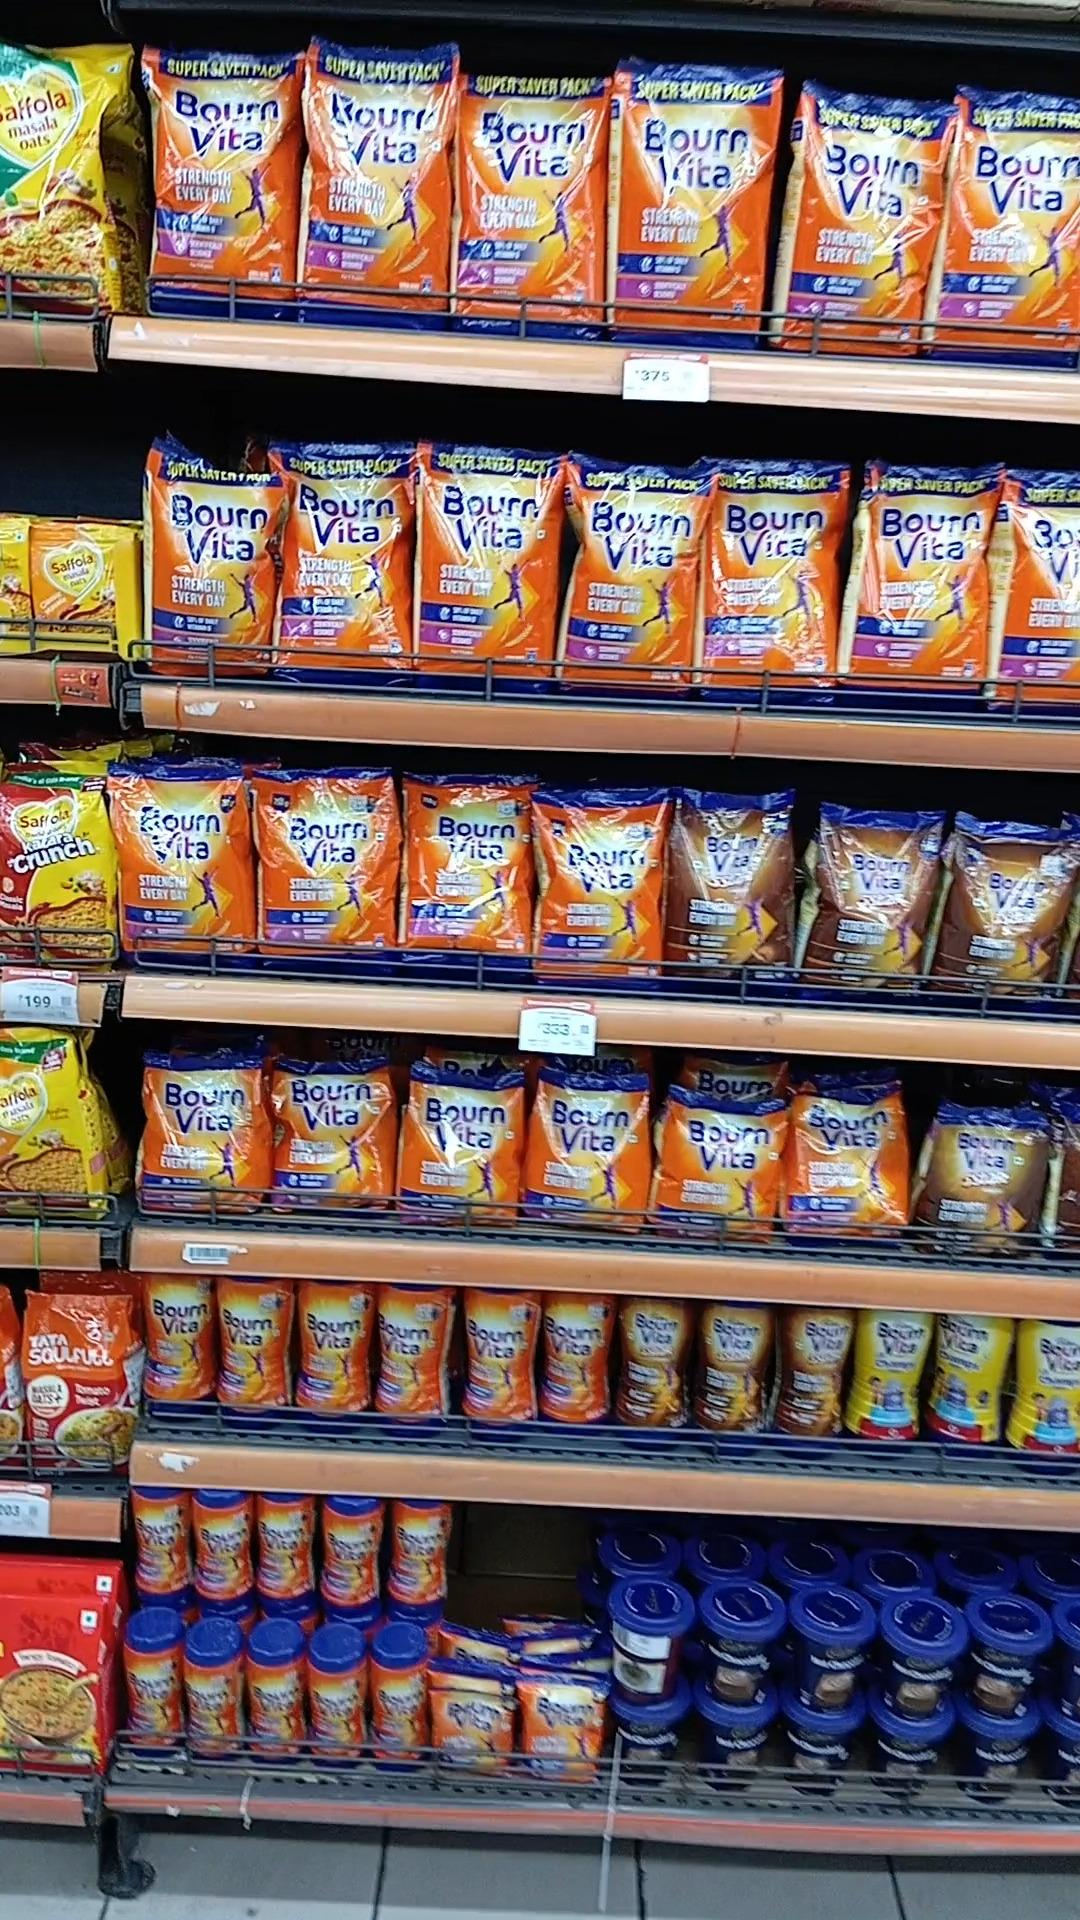BOURN_VITA_1_KG_POUCH: (303, 44, 464, 349), (621, 70, 777, 345), (150, 47, 302, 324), (781, 96, 940, 355), (468, 78, 611, 343), (955, 83, 1079, 375), (858, 468, 996, 724), (708, 465, 849, 711), (560, 467, 699, 707), (426, 450, 550, 695), (289, 454, 410, 703), (146, 443, 266, 688), (1002, 463, 1080, 732)
BOURN_VITA_200_G_JAR: (120, 1626, 181, 1764), (187, 1489, 255, 1606), (185, 1638, 245, 1763), (372, 1643, 426, 1774), (309, 1639, 363, 1767), (320, 1494, 378, 1613), (249, 1640, 302, 1771), (131, 1485, 183, 1598), (260, 1491, 310, 1610), (389, 1498, 443, 1607)
BOURN_VITA_500_G_JAR: (295, 1282, 378, 1431), (215, 1279, 291, 1436), (458, 1288, 533, 1447), (541, 1295, 613, 1447), (380, 1287, 448, 1447), (142, 1274, 207, 1429)
BOURN_VITA_500_G_POUCH: (272, 1062, 390, 1240), (141, 1064, 266, 1225), (406, 1069, 524, 1238), (661, 1097, 785, 1255), (793, 1088, 905, 1255), (535, 1076, 650, 1222)
BOURN_VITA_750_G_POUCH: (253, 779, 394, 989), (407, 773, 534, 981), (537, 796, 661, 1000), (119, 769, 243, 971)
BOURN_VITA_75_G_POUCH: (425, 1685, 513, 1784), (529, 1679, 603, 1795)
BOURN_VITA_CHAMPS_500_G_JAR: (1010, 1319, 1080, 1481), (931, 1312, 1005, 1460), (858, 1313, 927, 1465)
BOURN_VITA_FIVE_STAR_MAGIC_500_G_JAR: (618, 1295, 690, 1461), (703, 1302, 773, 1460), (785, 1307, 848, 1466)
BOURN_VITA_FIVE_STAR_MAGIC_500_G_POUCH: (920, 1109, 1043, 1269)
BOURN_VITA_FIVE_STAR_MAGIC_750_G_POUCH: (673, 796, 795, 1006), (945, 819, 1069, 1015), (810, 808, 926, 1005)
